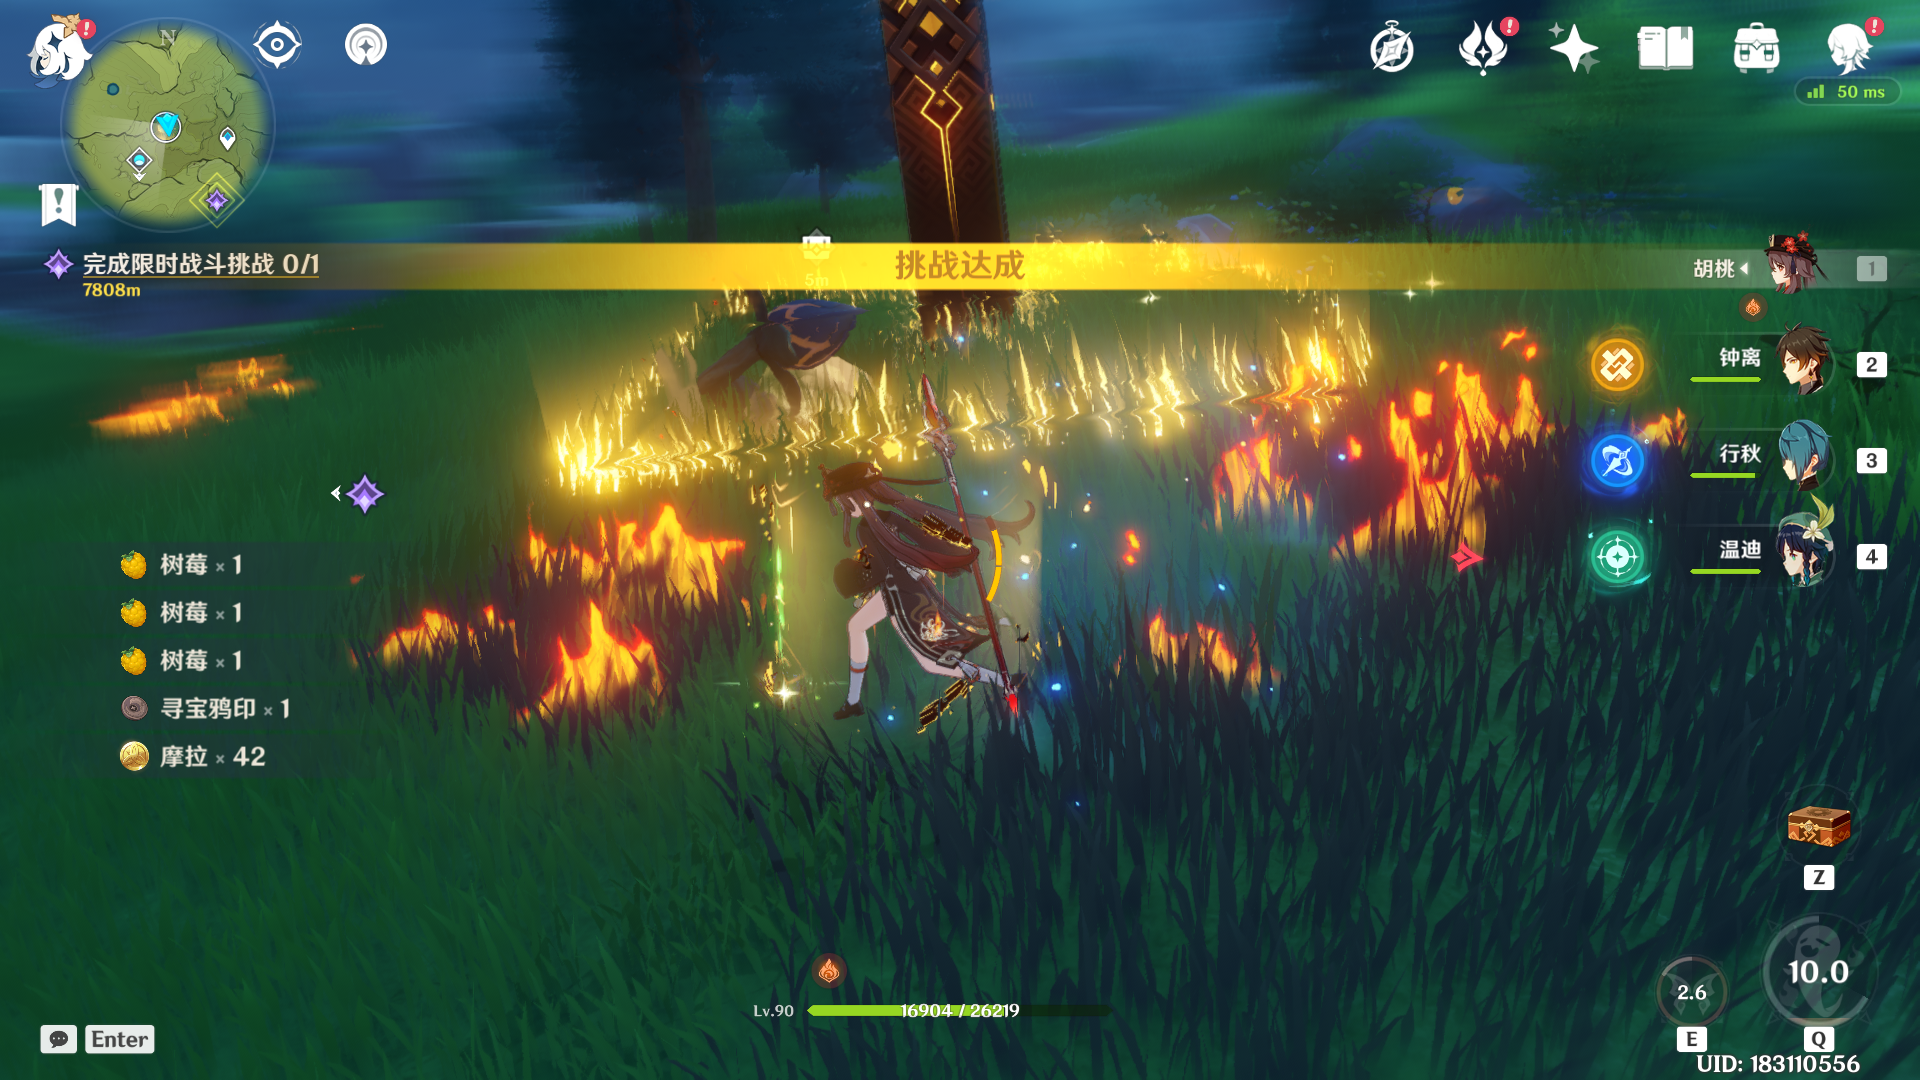character: (782, 419, 1038, 764)
